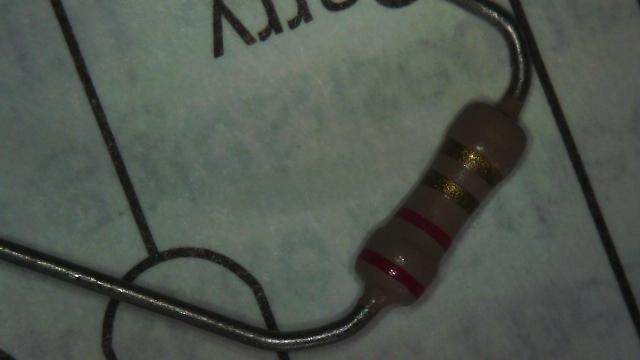gold: (441, 138, 501, 185), (423, 171, 478, 204)
red: (360, 249, 424, 296), (396, 207, 452, 249)
resistor: (299, 70, 567, 326)
